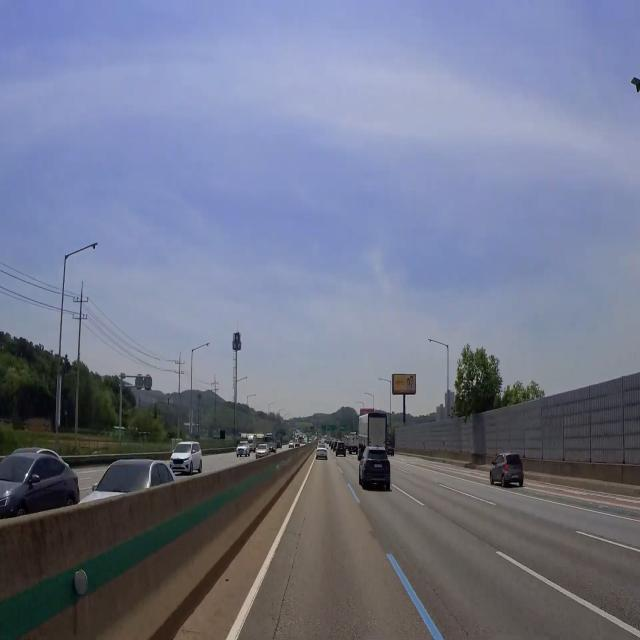car: (373, 461, 383, 470), (511, 472, 520, 481), (172, 463, 182, 470), (319, 452, 324, 457), (339, 448, 344, 452)
